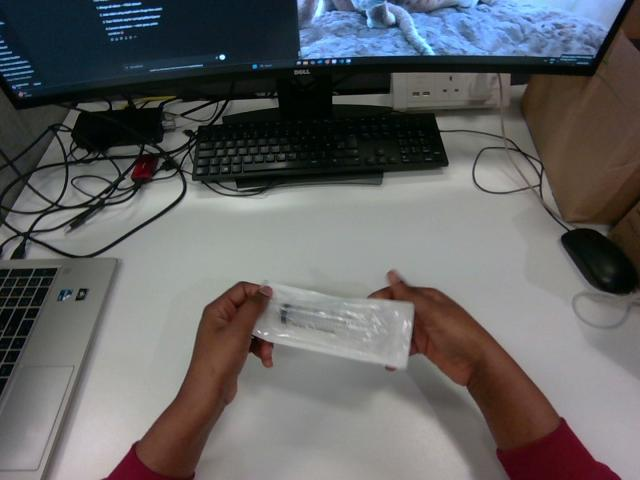syringe: (253, 283, 413, 368)
